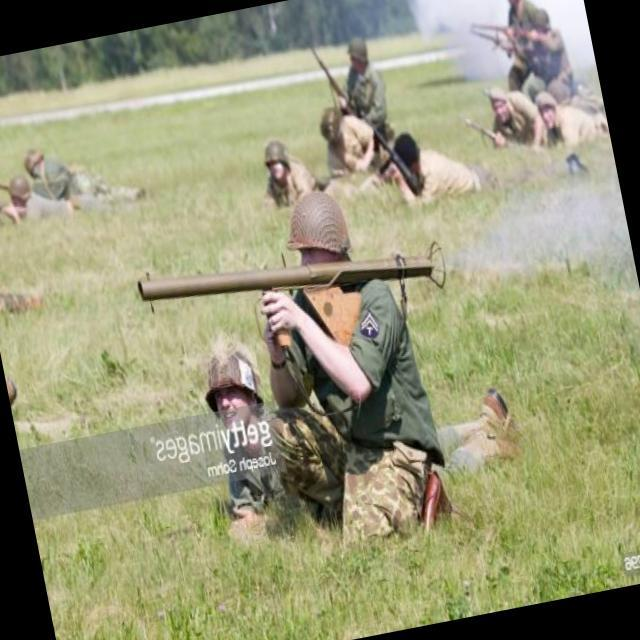rocket: (133, 216, 452, 350)
